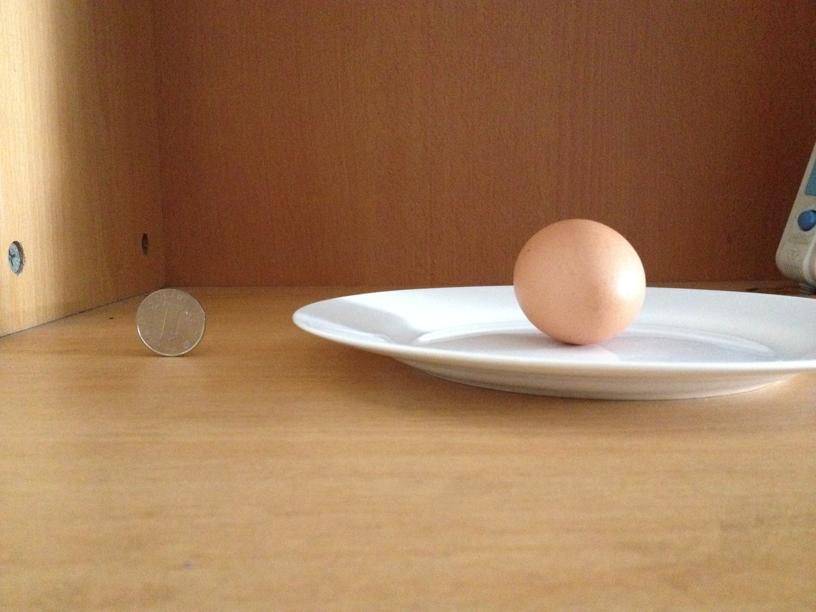coin: (137, 288, 208, 356)
egg: (515, 217, 647, 343)
